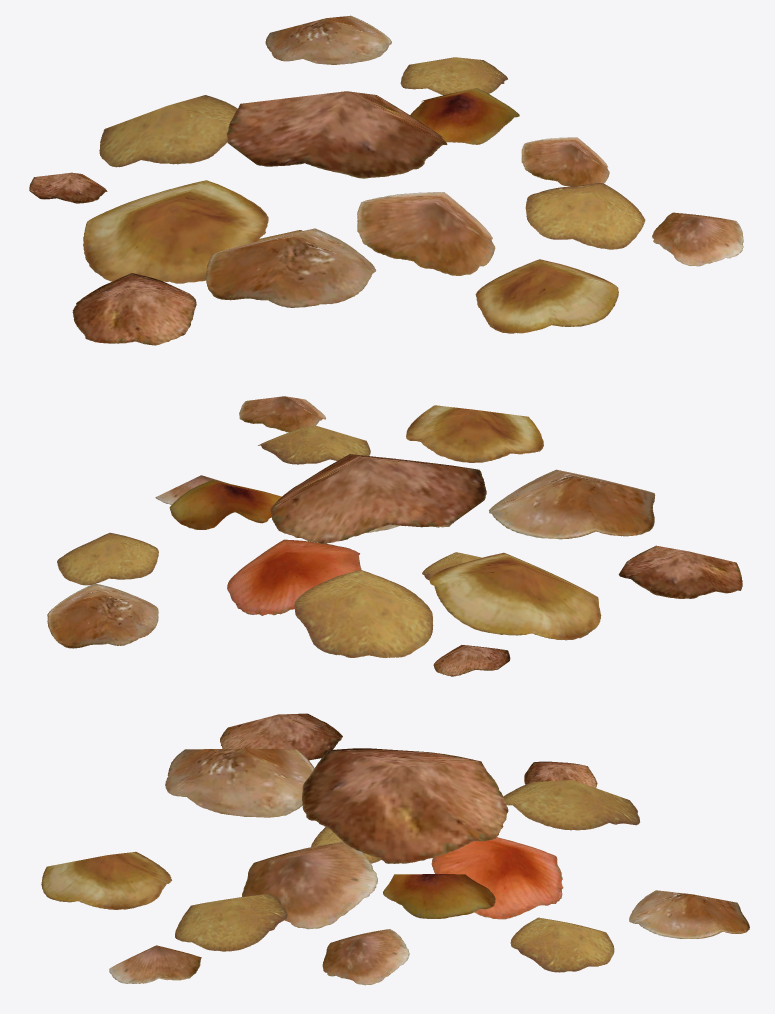
File: fngi_mushroom_clump_a1_l1.fbx
3 views of the same model, one above another, from view 1: azimuth 30°, elevation 25°; view 2: azimuth 150°, elevation 25°; view 3: azimuth 270°, elevation 25° (orthographic). The views are drawn at different scales.
Visible parts, largest first — view 1: mesh_node; view 2: mesh_node; view 3: mesh_node.
Part boxes in pixels (x1=…): mesh_node: x1=29, y1=15, x2=743, y2=345; mesh_node: x1=47, y1=396, x2=742, y2=676; mesh_node: x1=41, y1=713, x2=749, y2=985.
Bounding box in the file's own units: 1.37 × 0.3025 × 1.48.
